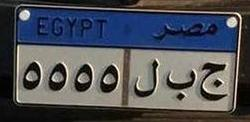5: (21, 57, 43, 96), (99, 62, 120, 101), (71, 59, 95, 93), (47, 60, 69, 95)
baa: (164, 65, 198, 103)
jeem: (199, 61, 230, 103)
laam: (133, 52, 161, 101)
